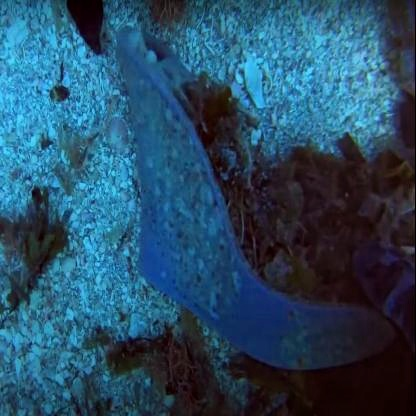misc: (110, 69, 249, 315)
